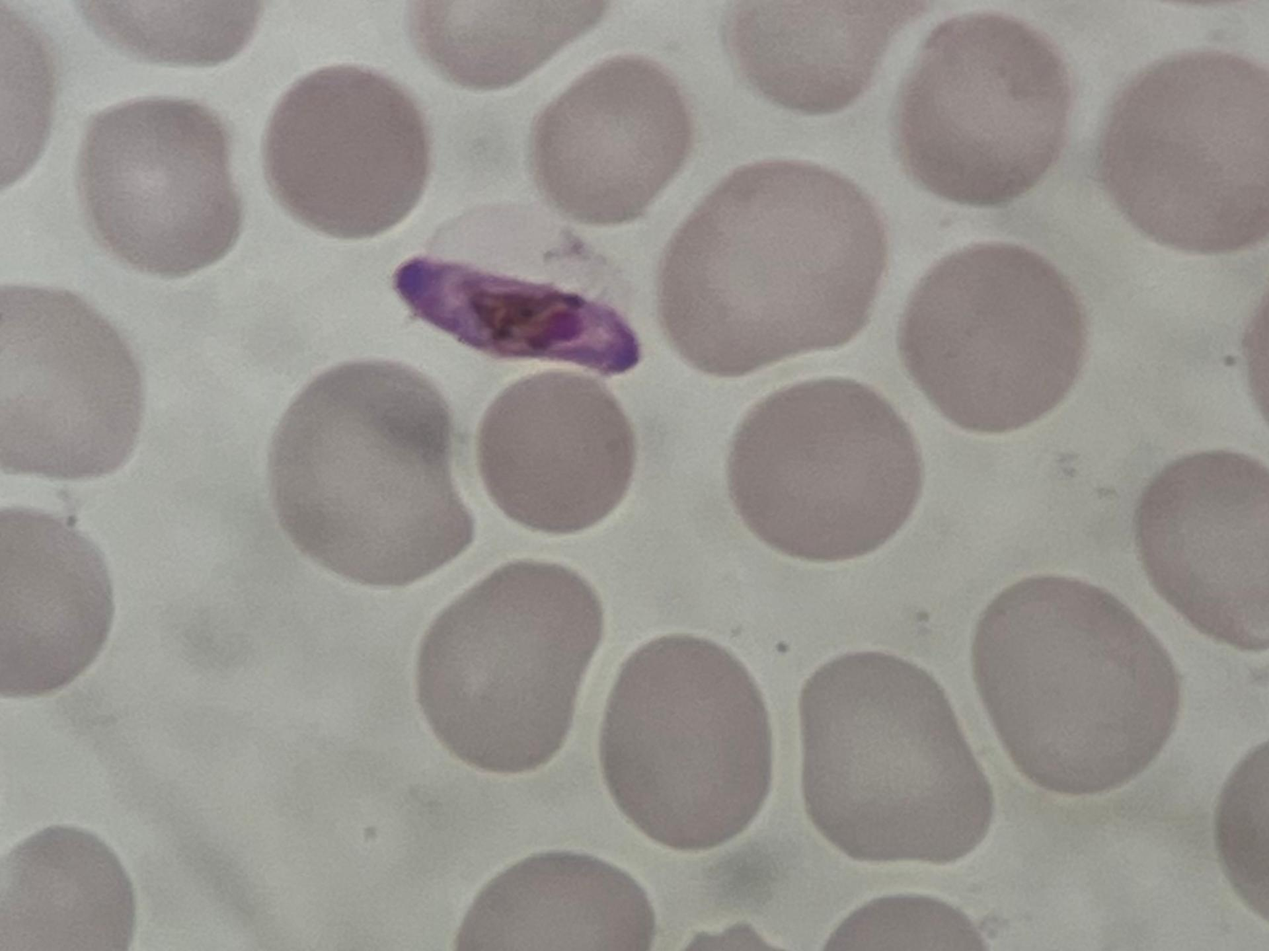Infected: (397, 197, 644, 374)
Uninfected: (658, 159, 889, 374), (269, 361, 473, 588), (971, 576, 1181, 795), (800, 650, 996, 866), (421, 554, 602, 773), (600, 633, 773, 853), (897, 243, 1087, 436), (1096, 50, 1269, 257), (725, 382, 917, 561), (898, 15, 1071, 200), (0, 283, 148, 488), (82, 97, 243, 276), (268, 65, 430, 241), (534, 58, 692, 223), (481, 367, 634, 537), (1140, 449, 1269, 645), (0, 511, 115, 697)
